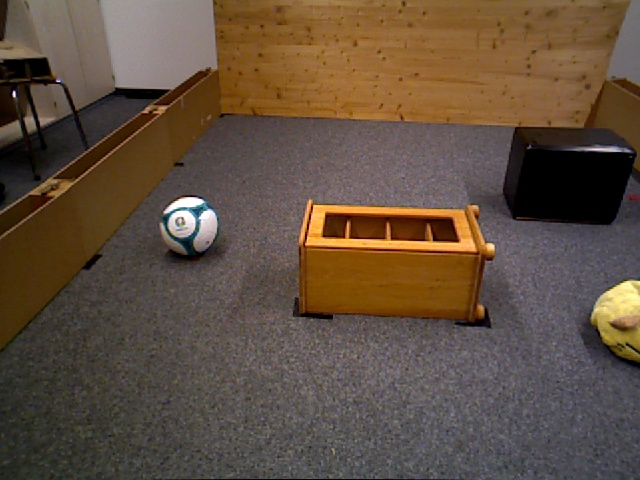grasp: (592, 280, 640, 361)
kick: (158, 195, 219, 258)
push: (508, 126, 635, 225)
